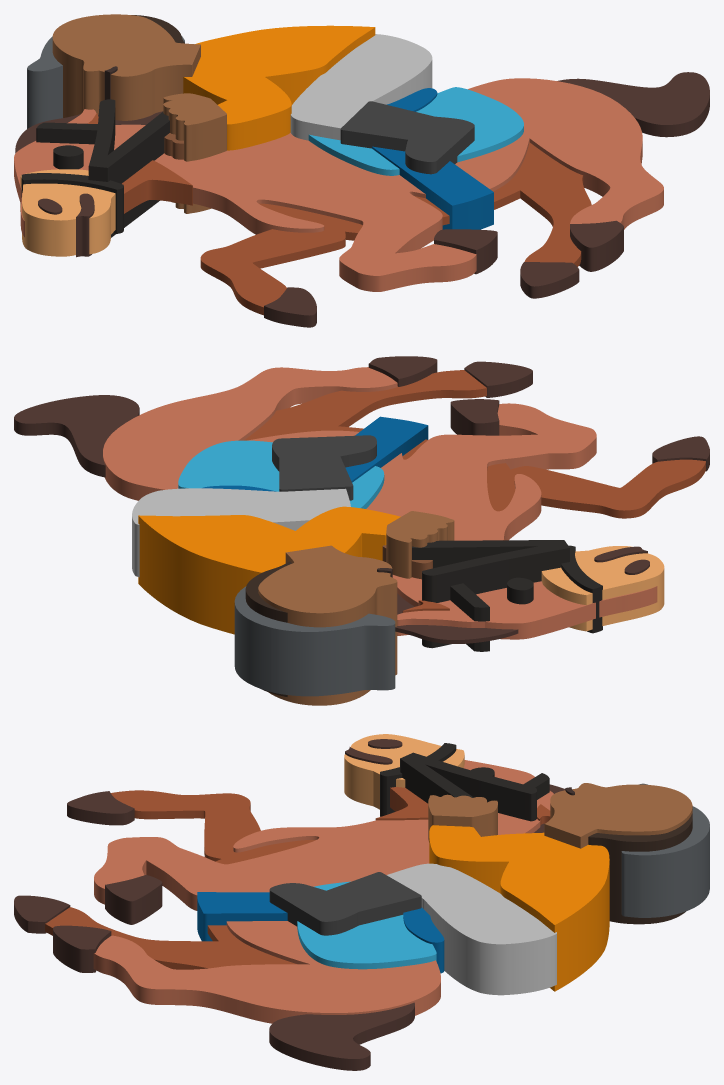
The model's file is emoji_u1f3c7_1f3fe.glb.
The picture shows the model from 3 angles, top to bottom: view 1: azimuth 30°, elevation 25°; view 2: azimuth 150°, elevation 25°; view 3: azimuth 270°, elevation 25°; orthographic projection. The views are drawn at different scales.
Visible parts, largest first — view 1: emoji_u1f3c7_1f3fe; view 2: emoji_u1f3c7_1f3fe; view 3: emoji_u1f3c7_1f3fe.
Part boxes in pixels (<box>): emoji_u1f3c7_1f3fe: <box>14,14,709,327</box>; emoji_u1f3c7_1f3fe: <box>14,356,709,705</box>; emoji_u1f3c7_1f3fe: <box>14,734,709,1070</box>.
Bounding box in the file's own units: 0.0343 × 0.0048 × 0.0322.
